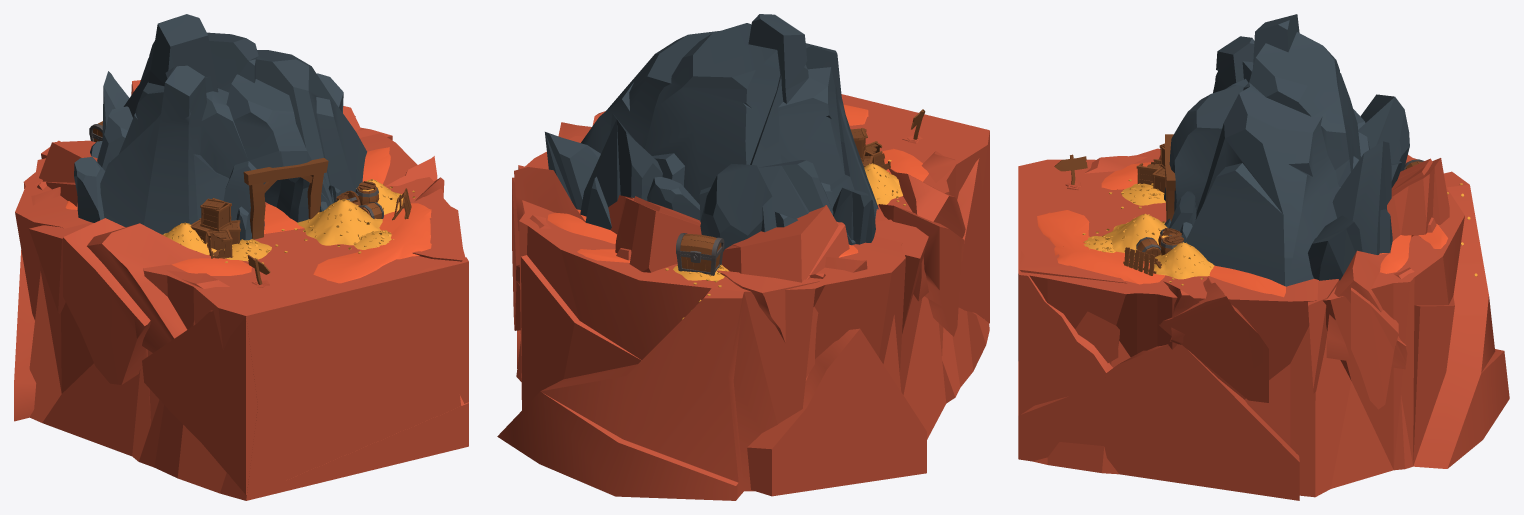
The model's file is Ground_Start.fbx.
The picture shows the model from 3 angles, left to right: view 1: azimuth 30°, elevation 25°; view 2: azimuth 150°, elevation 25°; view 3: azimuth 270°, elevation 25°; orthographic projection. The views are drawn at different scales.
Visible parts, largest first — view 1: Ground_Start; view 2: Ground_Start; view 3: Ground_Start.
Part boxes in pixels (x1,y1,x2,y2): Ground_Start: (14, 14, 468, 500); Ground_Start: (497, 14, 989, 500); Ground_Start: (1018, 14, 1509, 500).
Size of the model in its own units: 1230 by 1146 by 1366.
Materials: 1 (1 with a texture image).
